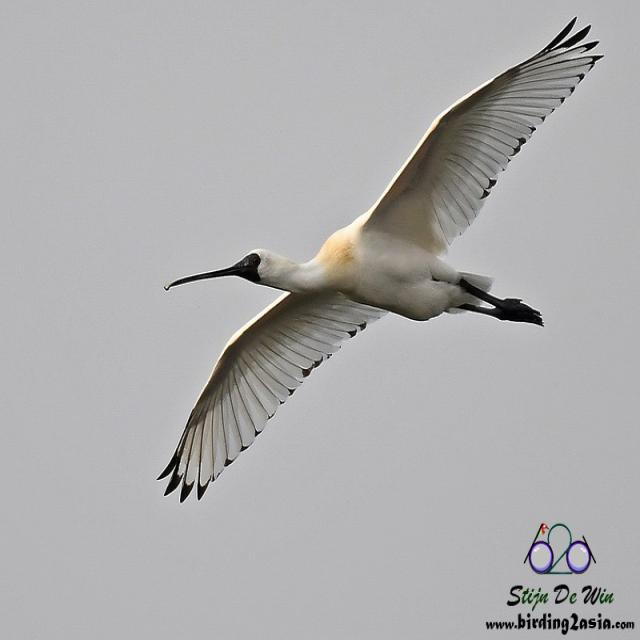Black-faced spoonbill: (160, 19, 601, 501)
